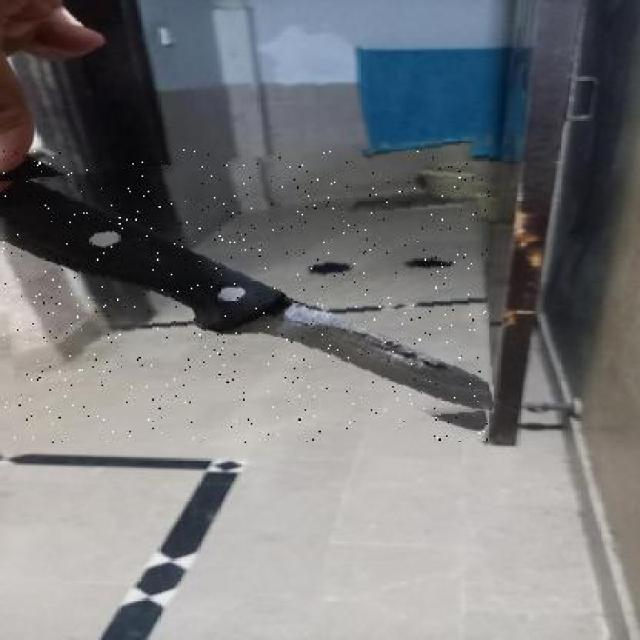knife: (0, 149, 489, 443)
